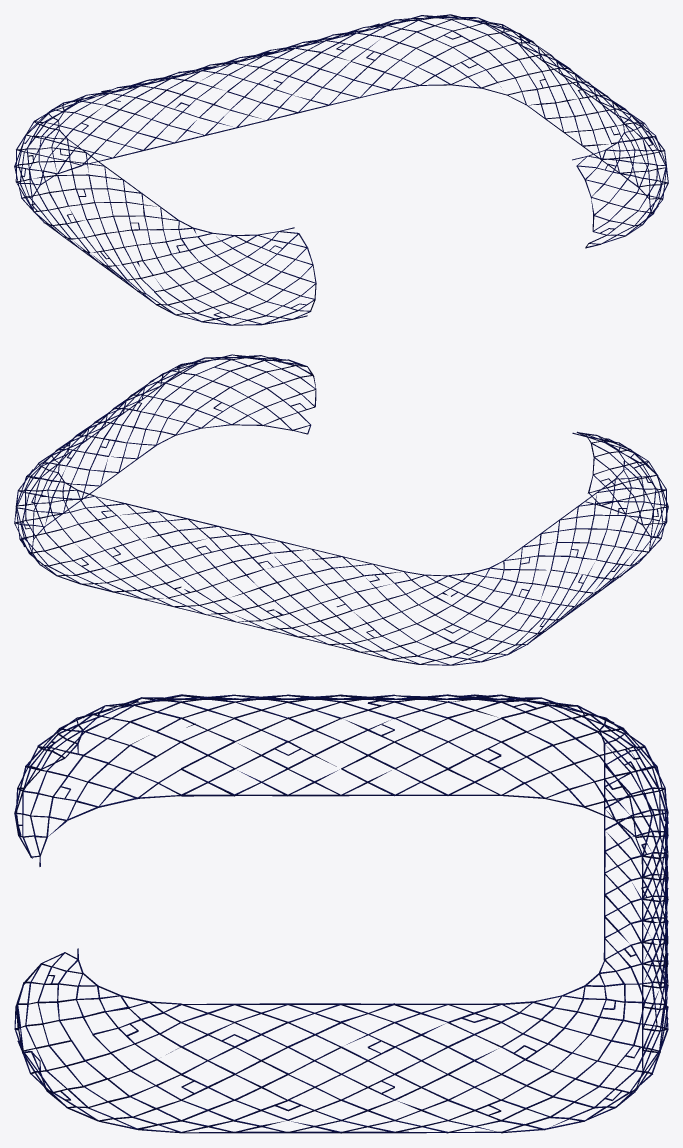
File: Al_Nasar_Football_Stadium_OuterWallBeams.FBX
3 views of the same model, one above another, from view 1: azimuth 30°, elevation 25°; view 2: azimuth 150°, elevation 25°; view 3: azimuth 270°, elevation 25° (orthographic). The views are drawn at different scales.
Parts seen in each view (by area): view 1: Al_Nasar_Football_Stadium_OuterWallBeams; view 2: Al_Nasar_Football_Stadium_OuterWallBeams; view 3: Al_Nasar_Football_Stadium_OuterWallBeams.
Boxes of the visible parts, box(x1,y1,x2,y2) form: Al_Nasar_Football_Stadium_OuterWallBeams: box(14, 14, 668, 325); Al_Nasar_Football_Stadium_OuterWallBeams: box(14, 354, 668, 665); Al_Nasar_Football_Stadium_OuterWallBeams: box(14, 694, 668, 1133).
Size of the model in its own units: 26298 by 20249 by 3916.
